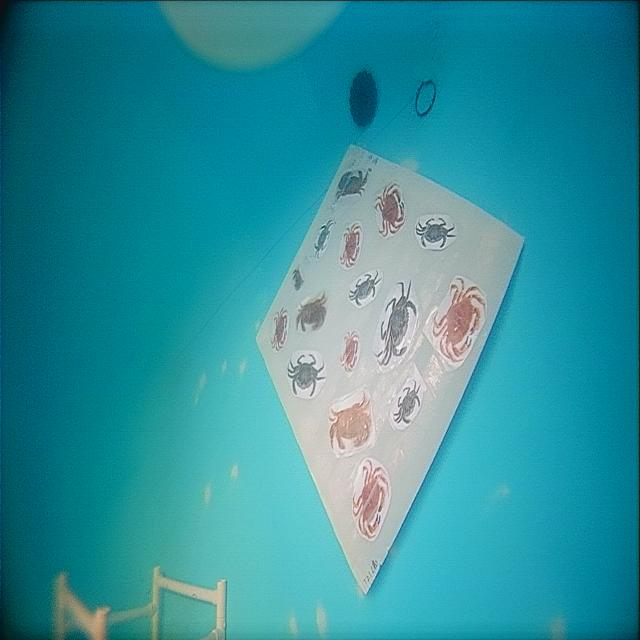GreenCrab: (375, 281, 417, 364), (288, 354, 325, 396), (416, 217, 456, 248), (349, 270, 381, 305), (394, 382, 420, 424)
